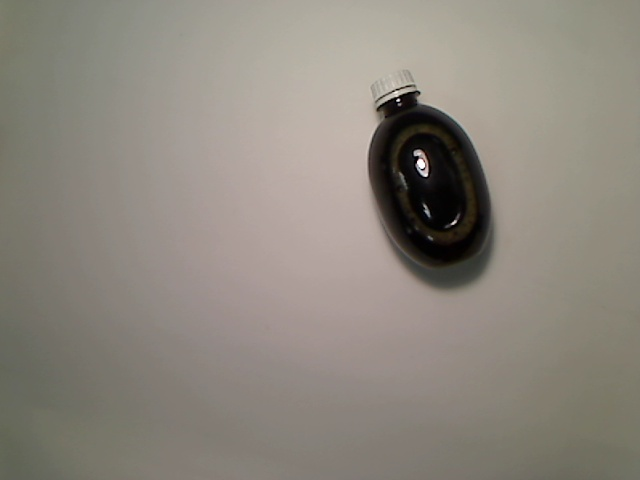plast_bottle: (365, 67, 492, 272)
